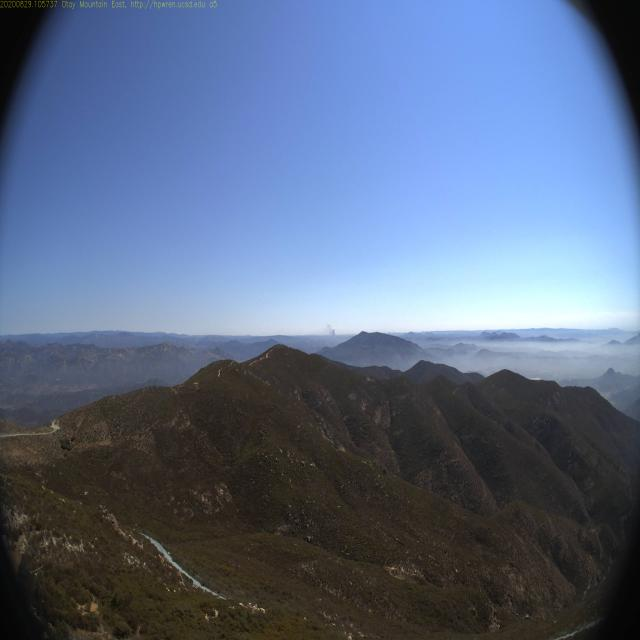smoke: (317, 318, 338, 350)
